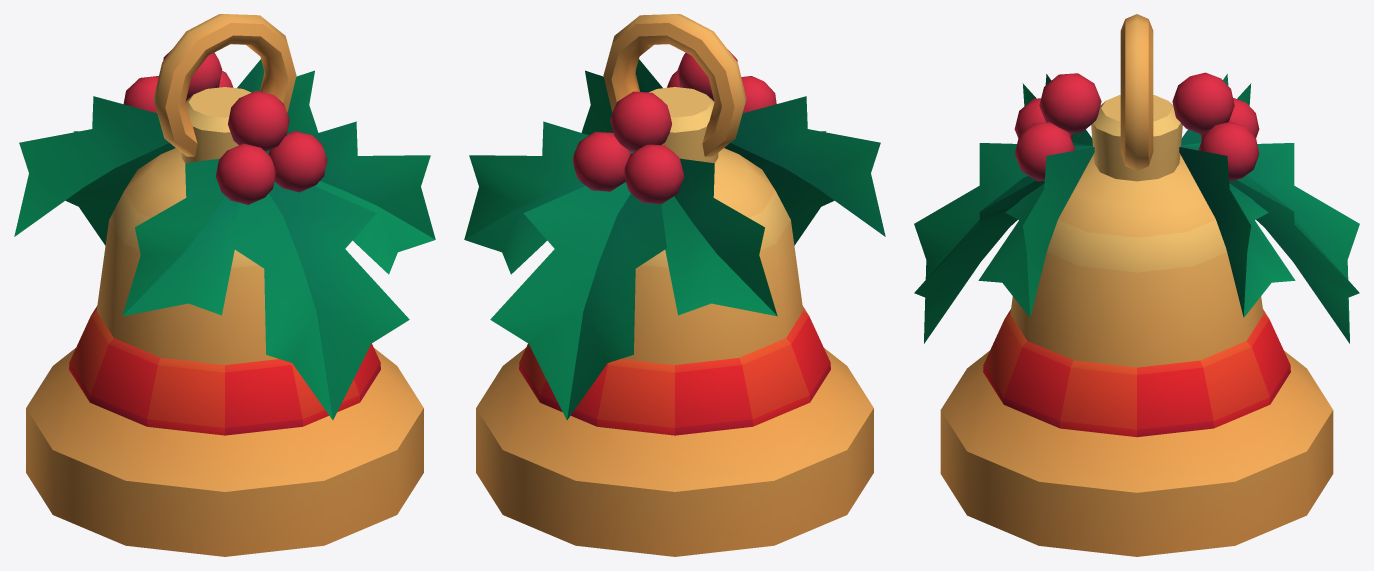
The model's file is bell_decorated.glb.
The picture shows the model from 3 angles, left to right: view 1: azimuth 30°, elevation 25°; view 2: azimuth 150°, elevation 25°; view 3: azimuth 270°, elevation 25°; orthographic projection.
Parts seen in each view (by area): view 1: bell_decorated, bell_decorated_ring; view 2: bell_decorated, bell_decorated_ring; view 3: bell_decorated, bell_decorated_ring.
Part boxes in pixels (<box>): bell_decorated: <box>14,50,435,556</box>; bell_decorated_ring: <box>153,14,296,156</box>; bell_decorated: <box>464,50,885,556</box>; bell_decorated_ring: <box>603,14,746,156</box>; bell_decorated: <box>914,72,1359,556</box>; bell_decorated_ring: <box>1120,14,1153,170</box>.
Size of the model in its own units: 0.806 by 1.1 by 0.9158.
1 material, 1 textured.
